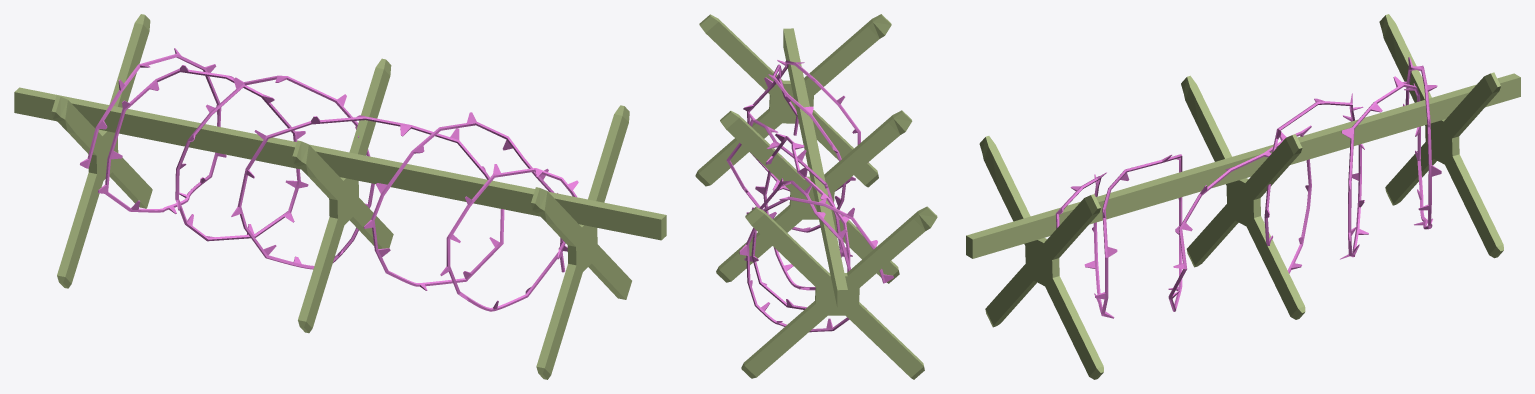
The model's file is BarbWire.FBX.
3 views of the same model, side by side, from view 1: azimuth 30°, elevation 25°; view 2: azimuth 150°, elevation 25°; view 3: azimuth 270°, elevation 25° (orthographic). The views are drawn at different scales.
Visible parts, largest first — view 1: BarbWireStand, BarbWire; view 2: BarbWireStand, BarbWire; view 3: BarbWireStand, BarbWire.
Part boxes in pixels (box(x1,y1,x2,y2)): BarbWireStand: box(14, 14, 666, 379); BarbWire: box(80, 48, 578, 311); BarbWireStand: box(695, 14, 937, 379); BarbWire: box(726, 60, 893, 332); BarbWireStand: box(966, 14, 1520, 379); BarbWire: box(1055, 57, 1441, 318).
Bounding box in the file's own units: 780 × 933 × 355.
